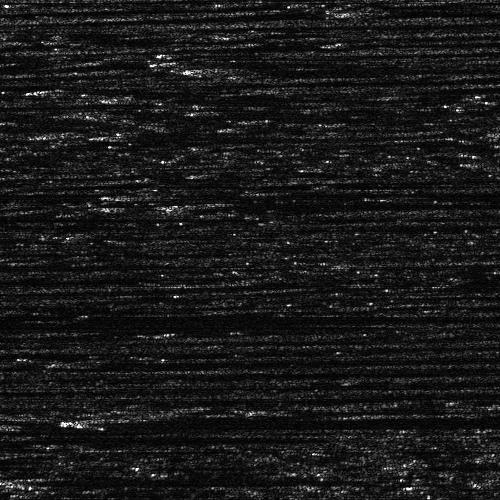rock: (4, 475, 67, 482), (0, 434, 19, 441)
shadow: (36, 475, 256, 482), (0, 434, 61, 441)
